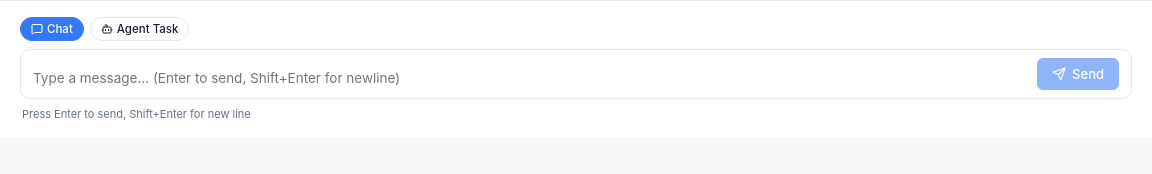
Test: Renderer: ConversationComposer (Agent Task Mode & Permissions) › Step 12.6 UI Mode Separation Tests (Scenarios 29 - 33b) › 33b. Bot with 0 enabled tools in Agent mode displays warning and disables submission
Later steps or results of the test are not shown.
Click the button with test id "composer-mode-agent-btn": x=140, y=29 top-left (90, 17), bottom-right (190, 41)
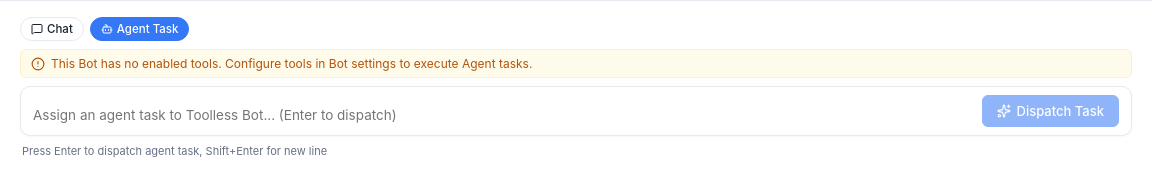
Expected: the message with test id "agent-no-tools-warning" shows "This Bot has no enabled tools. Configure tools in Bot settings to execute Agent tasks.", top-left (51, 56), bottom-right (532, 71)
